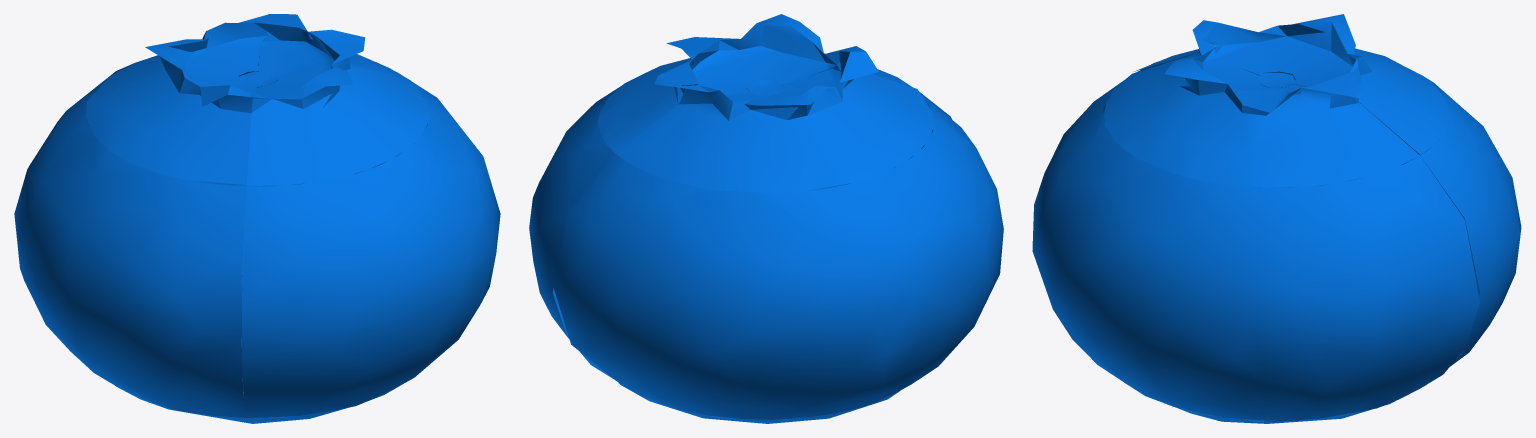
Rendered from blueberry.fbx.
The picture shows the model from 3 angles, left to right: view 1: azimuth 30°, elevation 25°; view 2: azimuth 150°, elevation 25°; view 3: azimuth 270°, elevation 25°; orthographic projection. The views are drawn at different scales.
Parts seen in each view (by area): view 1: blueberry_main; view 2: blueberry_main; view 3: blueberry_main.
Part boxes in pixels (x1=…): blueberry_main: x1=14, y1=14, x2=500, y2=423; blueberry_main: x1=529, y1=14, x2=1003, y2=423; blueberry_main: x1=1032, y1=14, x2=1521, y2=423.
Bounding box in the file's own units: 2 × 1.56 × 2.
